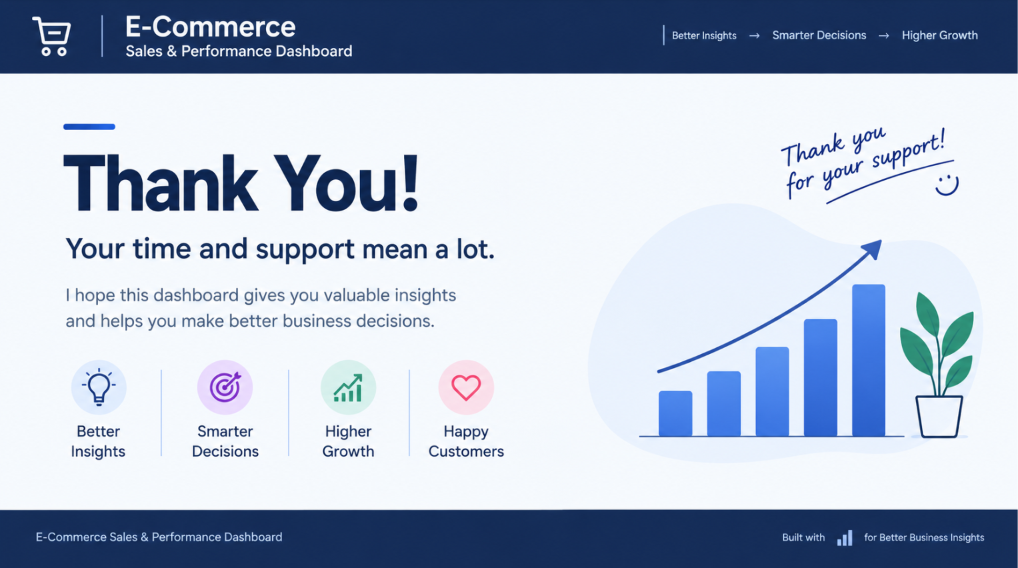

Layout of this report page (visuals, bound fields, positions):
{"tool":"powerbi","page":{"name":"Thank_You","canvas":[2000,1120],"ordinal":2},"visuals":[{"type":"image","box":[0,0,2000,1120],"z":0}]}

Visuals, with their boxes in screenshot pixels (x1, y1, x2, y2), scaled from the page's 2000x1120 canvas onto the 1018x568 screenshot:
image: 0:0:1017:567
